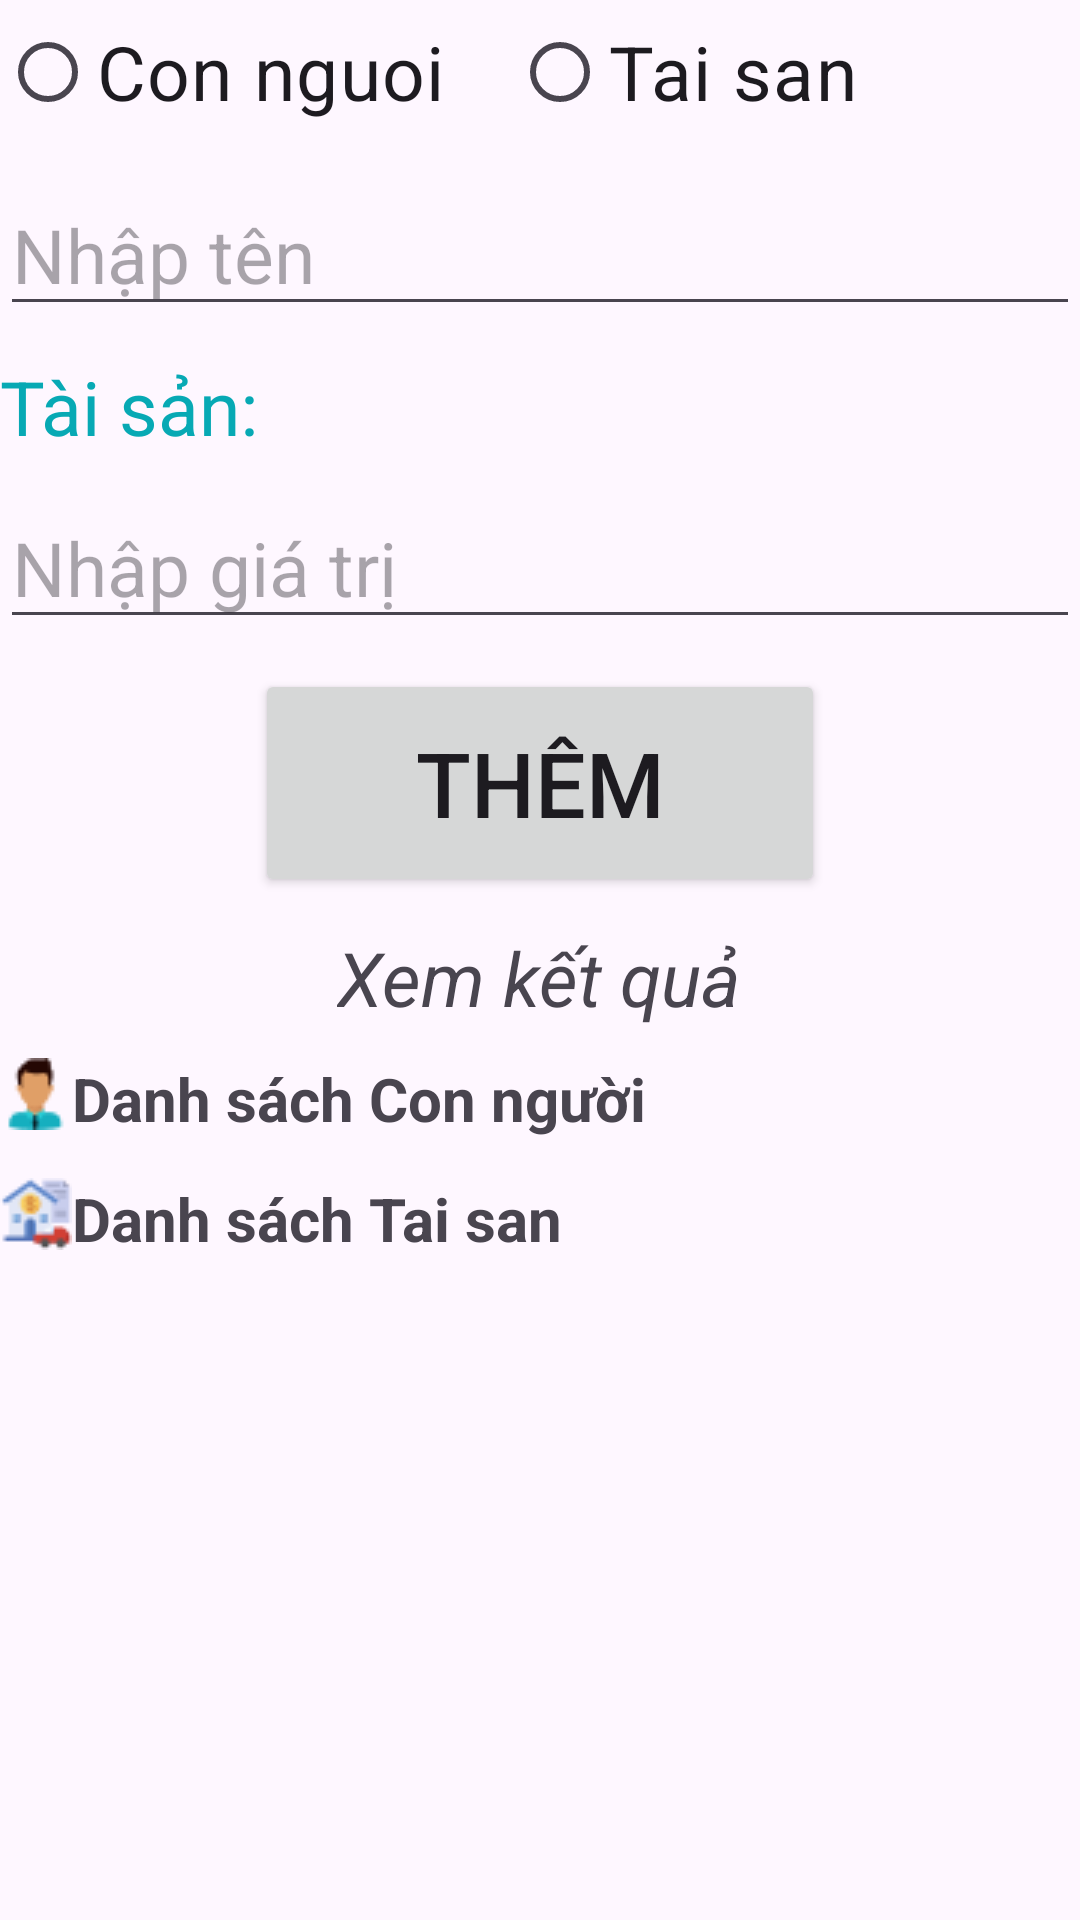

Where icons sit on this 1080px×1920px app screen, as (x1, y1, x2, y2):
iconasset: (2, 1180, 72, 1250)
iconperson: (8, 1058, 63, 1130)
